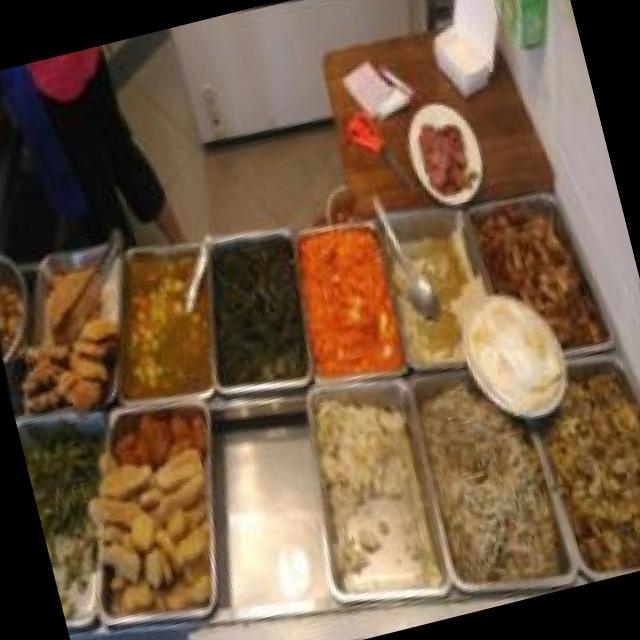carrot_eggs: (287, 218, 409, 379)
chicken_nuggets: (100, 517, 221, 620)
chinese_cabbage: (292, 377, 451, 600)
chinese_sausage: (414, 116, 476, 200)
curry: (100, 244, 222, 395)
fried_eggs: (458, 287, 570, 413)
mung_bean_sprouts: (414, 390, 567, 592)
triangle_hash_brown: (108, 402, 210, 473)
water_spinach: (21, 428, 107, 536)
